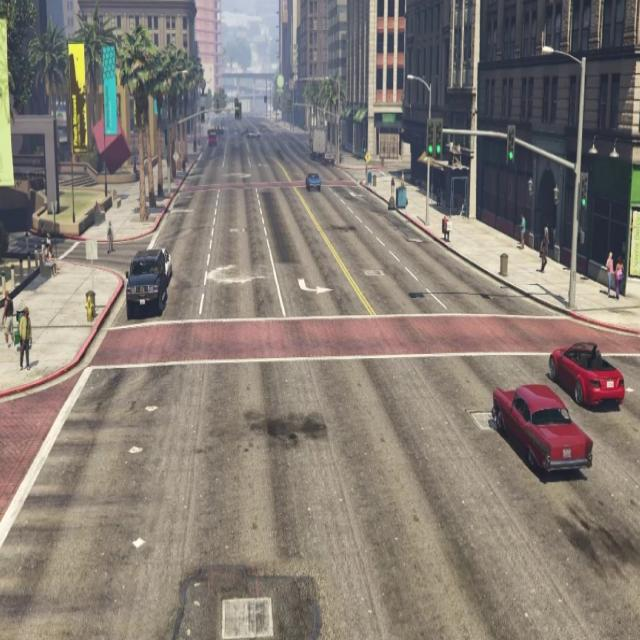Green-Signal: (424, 106, 446, 174), (502, 114, 519, 176), (576, 163, 592, 222)
